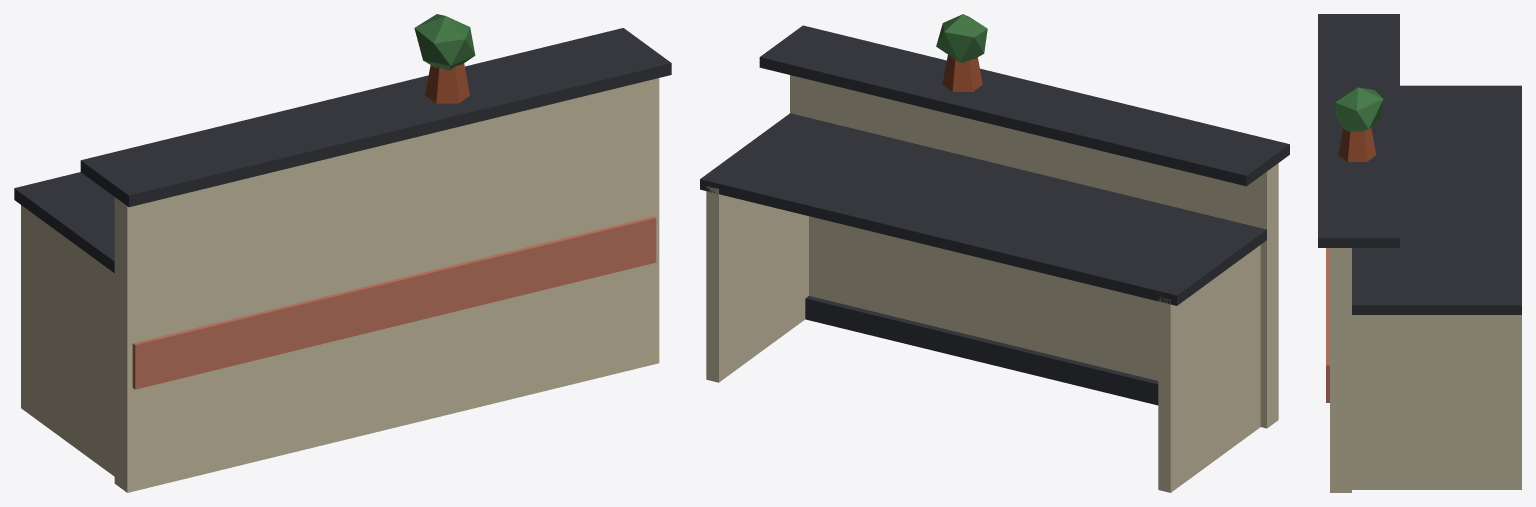
File: reception-counter-12.glb
The picture shows the model from 3 angles, left to right: view 1: azimuth 30°, elevation 25°; view 2: azimuth 150°, elevation 25°; view 3: azimuth 270°, elevation 25°; orthographic projection. The views are drawn at different scales.
Parts seen in each view (by area): view 1: reception_counter_12; view 2: reception_counter_12; view 3: reception_counter_12.
Part boxes in pixels (box(x1,y1,x2,y2)): reception_counter_12: box(14, 14, 671, 492); reception_counter_12: box(700, 14, 1289, 492); reception_counter_12: box(1318, 14, 1521, 492).
Bounding box in the file's own units: 1.95 × 1.31 × 0.7473.
